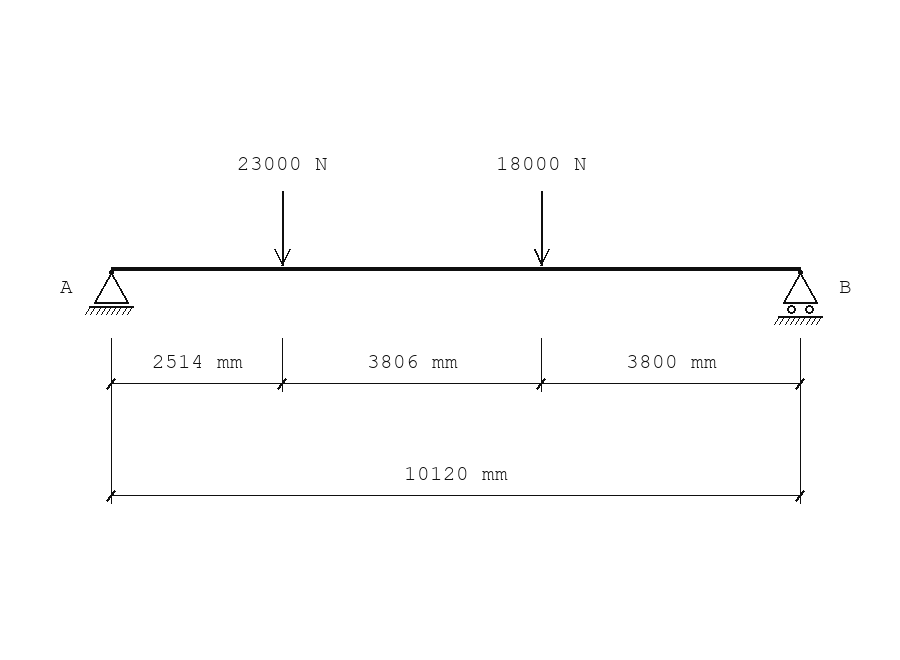pin_support: (85, 270, 134, 315)
point_load: (274, 191, 291, 266), (534, 191, 550, 266)
roller_support: (774, 270, 823, 325)
